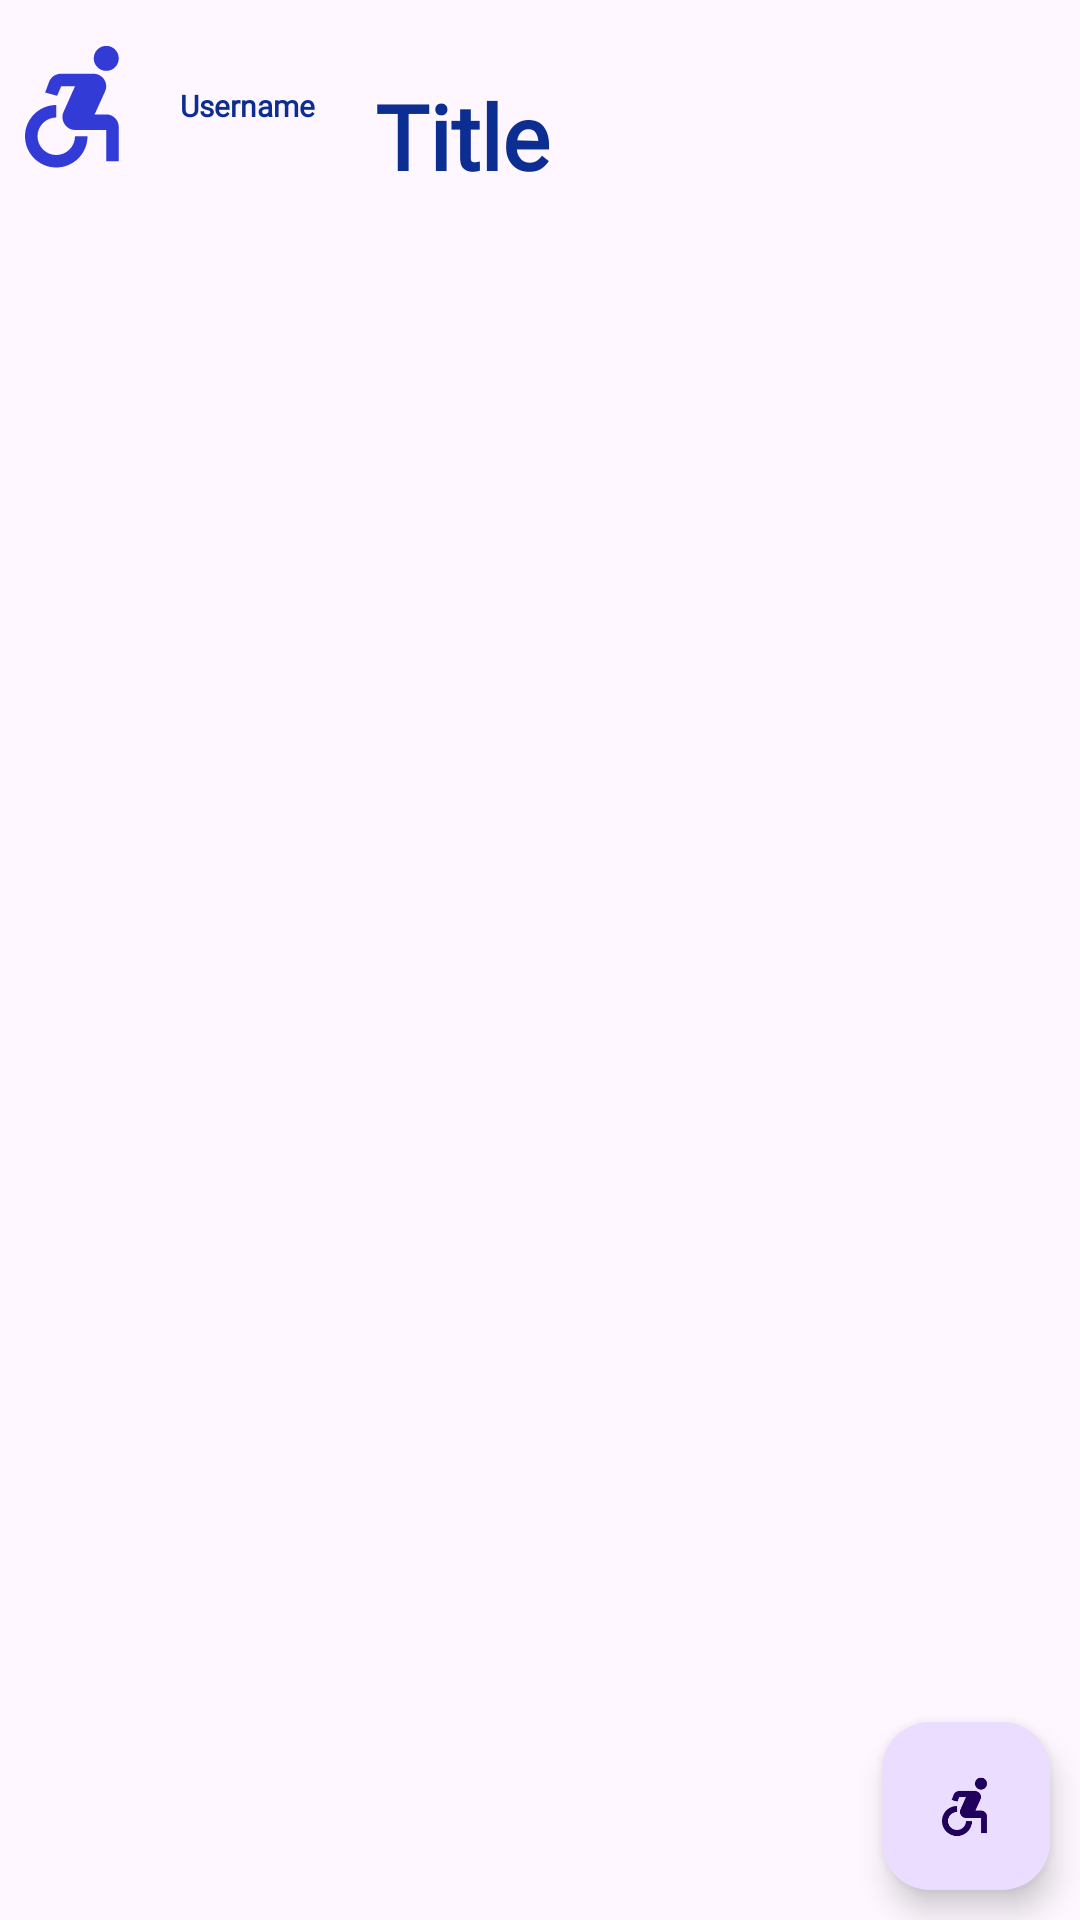

Where icons sit on this 1080 × 1920 app screen, as (x1, y1, x2, y2):
accessible forward: (25, 46, 119, 168), (882, 1722, 1050, 1890)
